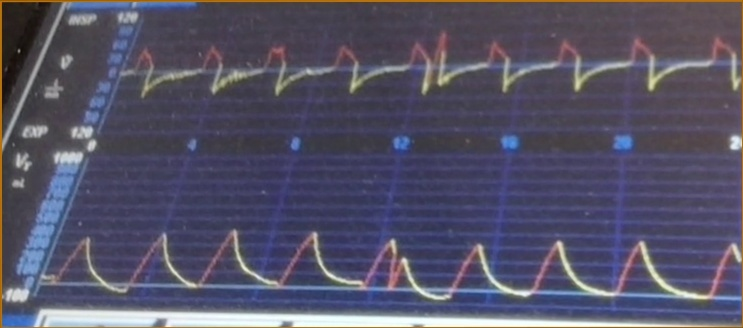Double_Triggering Flow: (157, 21, 702, 117)
Double_Triggering Volume: (132, 202, 705, 308)
